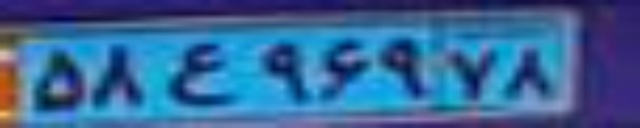5: (33, 47, 84, 110)
6: (317, 41, 370, 96)
7: (450, 45, 498, 102)
8: (93, 44, 141, 109), (505, 46, 553, 100)
9: (262, 42, 311, 102), (380, 40, 429, 97)
ain: (165, 43, 239, 106)
